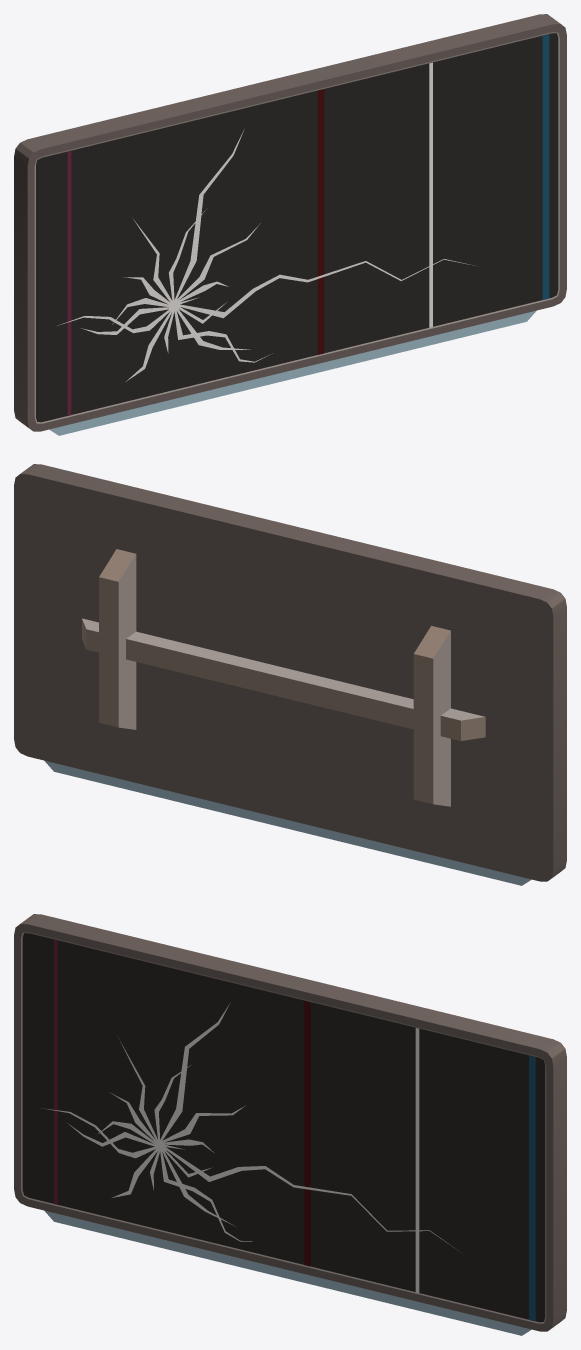
The model's file is TV Broken.fbx.
The picture shows the model from 3 angles, top to bottom: view 1: azimuth 30°, elevation 25°; view 2: azimuth 150°, elevation 25°; view 3: azimuth 330°, elevation 25°; orthographic projection.
Parts seen in each view (by area): view 1: TV Broken; view 2: TV Broken; view 3: TV Broken.
Part boxes in pixels (<box>): TV Broken: <box>14,14,566,435</box>; TV Broken: <box>14,464,566,885</box>; TV Broken: <box>14,914,566,1335</box>.
Size of the model in its own units: 200 by 20.38 by 105.
